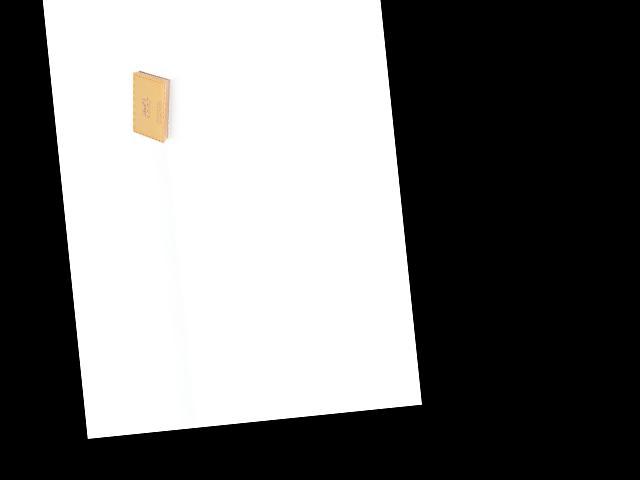chocolate: (124, 65, 182, 145)
